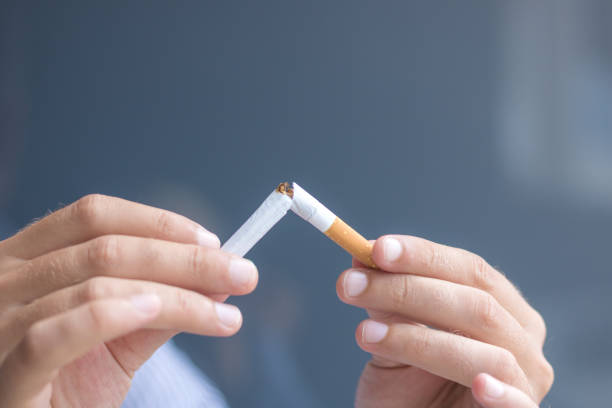cigarette: (287, 177, 379, 270), (220, 181, 293, 271)
